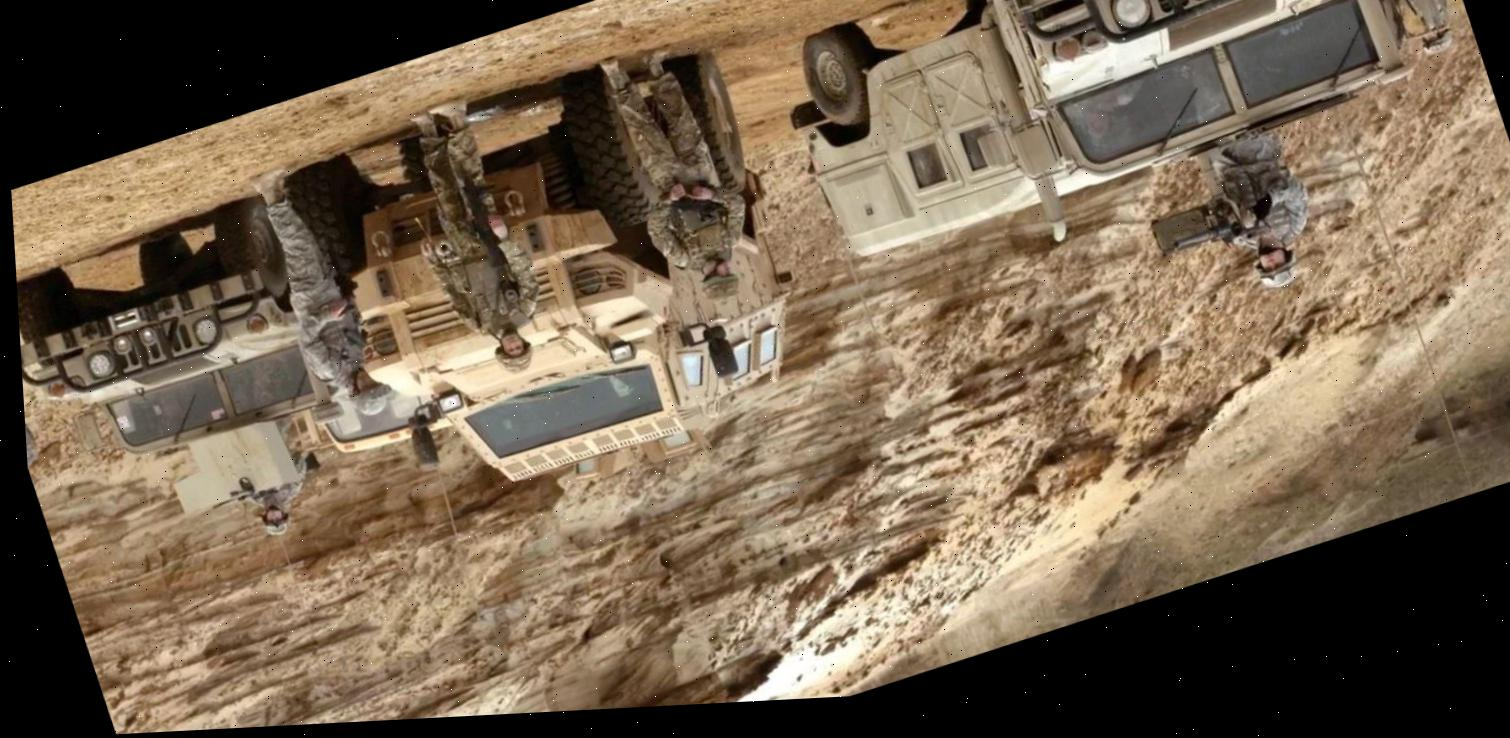armored_car: (270, 0, 863, 539), (928, 0, 1457, 230), (11, 164, 349, 514), (756, 0, 1098, 272)
person: (380, 75, 580, 395), (579, 26, 777, 328), (237, 140, 409, 434), (240, 432, 343, 552), (1354, 0, 1482, 78), (18, 297, 66, 505)
